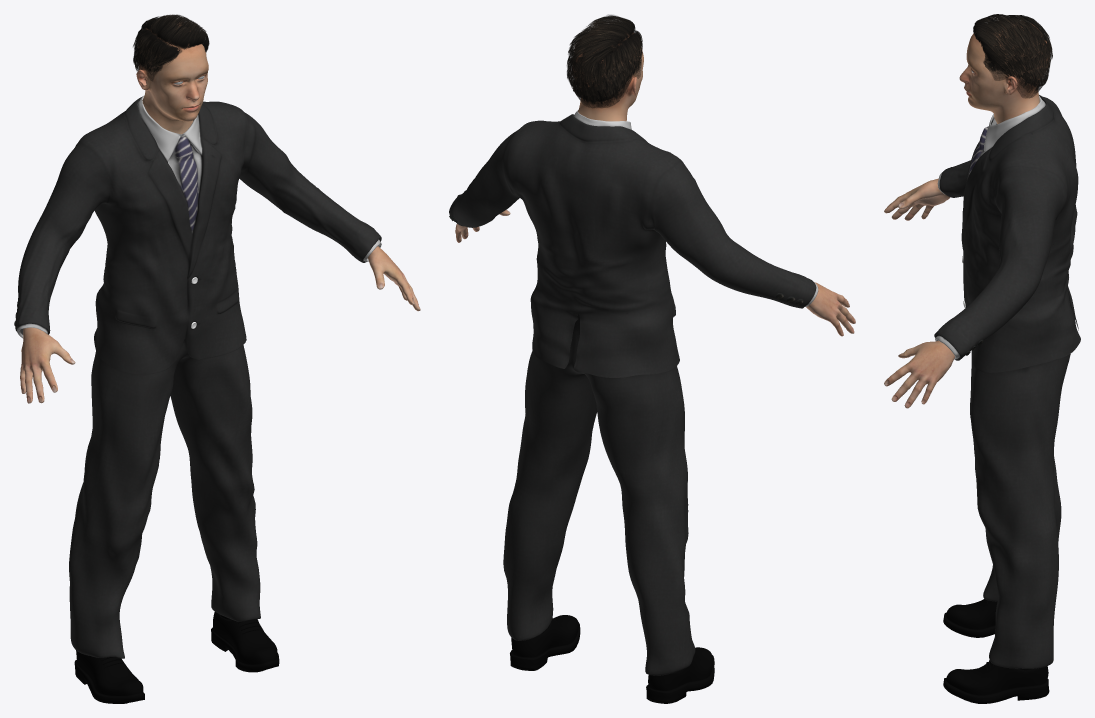
The picture shows the model from 3 angles, left to right: view 1: azimuth 30°, elevation 25°; view 2: azimuth 150°, elevation 25°; view 3: azimuth 270°, elevation 25°; orthographic projection.
Parts seen in each view (by area): view 1: male_elegantsuit01Mesh, shoes03Mesh, ericMesh.001, ericMesh, Ch31_Hair; view 2: male_elegantsuit01Mesh, Ch31_Hair, shoes03Mesh, ericMesh.001, ericMesh; view 3: male_elegantsuit01Mesh, shoes03Mesh, Ch31_Hair, ericMesh, ericMesh.001.
Part boxes in pixels (x1,y1,x2,y2): male_elegantsuit01Mesh: (14, 95, 381, 658); shoes03Mesh: (74, 611, 279, 703); ericMesh.001: (136, 22, 208, 134); ericMesh: (20, 246, 420, 403); Ch31_Hair: (133, 14, 209, 81); male_elegantsuit01Mesh: (449, 110, 818, 675); Ch31_Hair: (566, 14, 642, 108); shoes03Mesh: (510, 615, 714, 703); ericMesh.001: (572, 33, 643, 121); ericMesh: (455, 210, 855, 336); male_elegantsuit01Mesh: (934, 95, 1080, 668); shoes03Mesh: (943, 598, 1049, 703); Ch31_Hair: (973, 14, 1052, 98); ericMesh: (884, 178, 954, 408); ericMesh.001: (959, 22, 1049, 124).
Size of the model in its own units: 1.06 by 1.69 by 0.4664.
